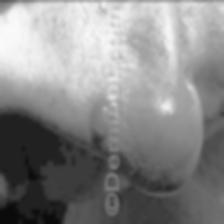Potentially Malignant Skin Tumors: (92, 94, 108, 132)
